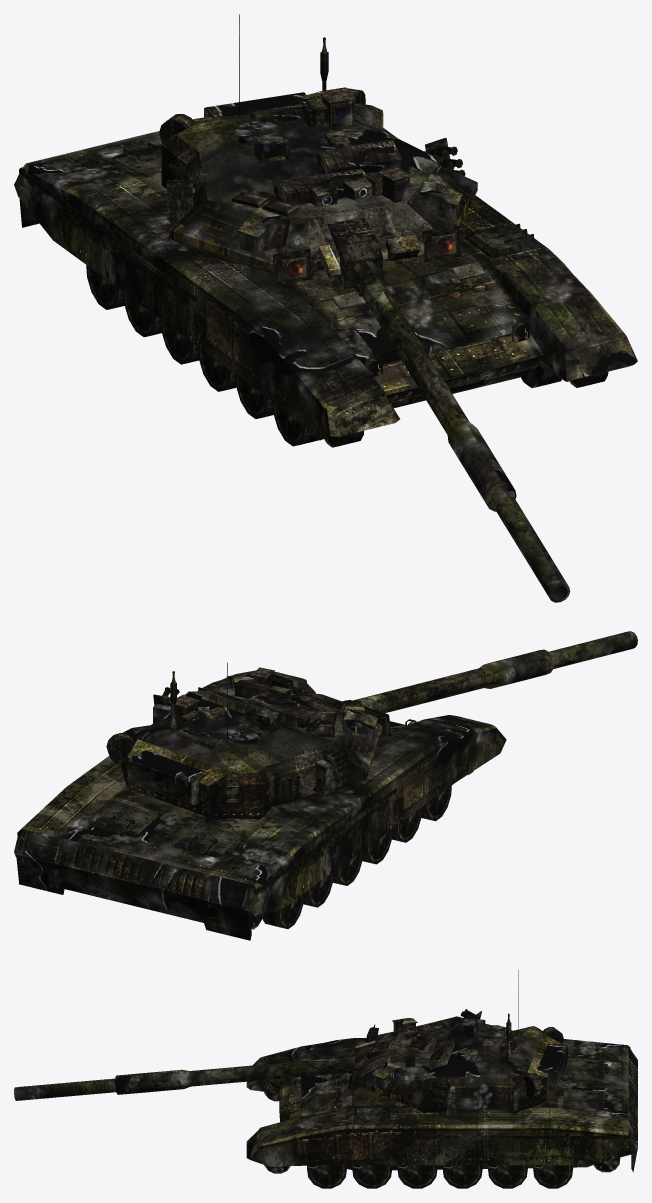
File: T-90S_Bomb.FBX
3 views of the same model, one above another, from view 1: azimuth 30°, elevation 25°; view 2: azimuth 150°, elevation 25°; view 3: azimuth 270°, elevation 25° (orthographic). The views are drawn at different scales.
Parts seen in each view (by area): view 1: Object03, Object02, Object01, Object06, Object07, Object08, Object09, Object10, Object05; view 2: Object03, Object02, Object01, Object10, Object09, Object06, Object08, Object07, Object05; view 3: Object03, Object02, Object01, Object13, Object15, Object17, Object16, Object14, Object18.
Part boxes in pixels (x1,y1,x2,y2): Object03: (14,92,637,440); Object02: (159,14,477,284); Object01: (327,218,570,602); Object06: (235,374,273,418); Object07: (198,347,236,391); Object08: (160,319,198,364); Object09: (123,292,161,337); Object10: (86,265,124,309); Object05: (272,401,319,446); Object03: (14,670,506,940); Object02: (106,662,391,819); Object01: (306,631,637,713); Object10: (262,894,304,928); Object09: (303,872,333,907); Object06: (392,807,422,842); Object08: (333,850,363,885); Object07: (362,829,392,864); Object05: (421,785,451,821); Object03: (246,1038,637,1171); Object02: (348,970,567,1114); Object01: (14,1041,390,1100); Object13: (533,1165,573,1188); Object15: (442,1165,482,1188); Object17: (352,1165,392,1188); Object16: (397,1165,437,1188); Object14: (488,1165,527,1188); Object18: (307,1165,346,1188).
Size of the model in its own units: 1914 by 5499 by 1691.
1 material, 1 textured.
